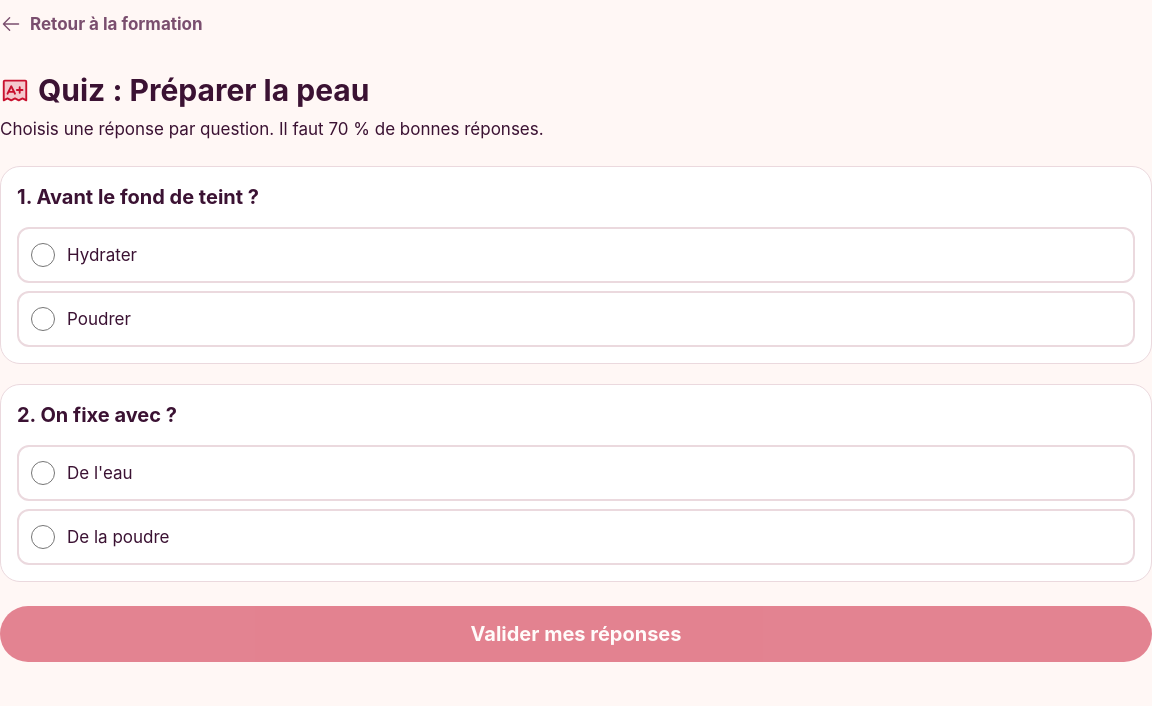
QuizScreen › sends one answer per question and shows the score
expect the element "1. Avant le fond de teint ? Hydrater Poudrer" is shown: met, box [0,166,1151,364]
expect the button "Valider mes réponses" is disabled: met, box [0,606,1151,662]
Click the radio button labelled "Hydrater" at (43, 255), box [31,243,55,267]
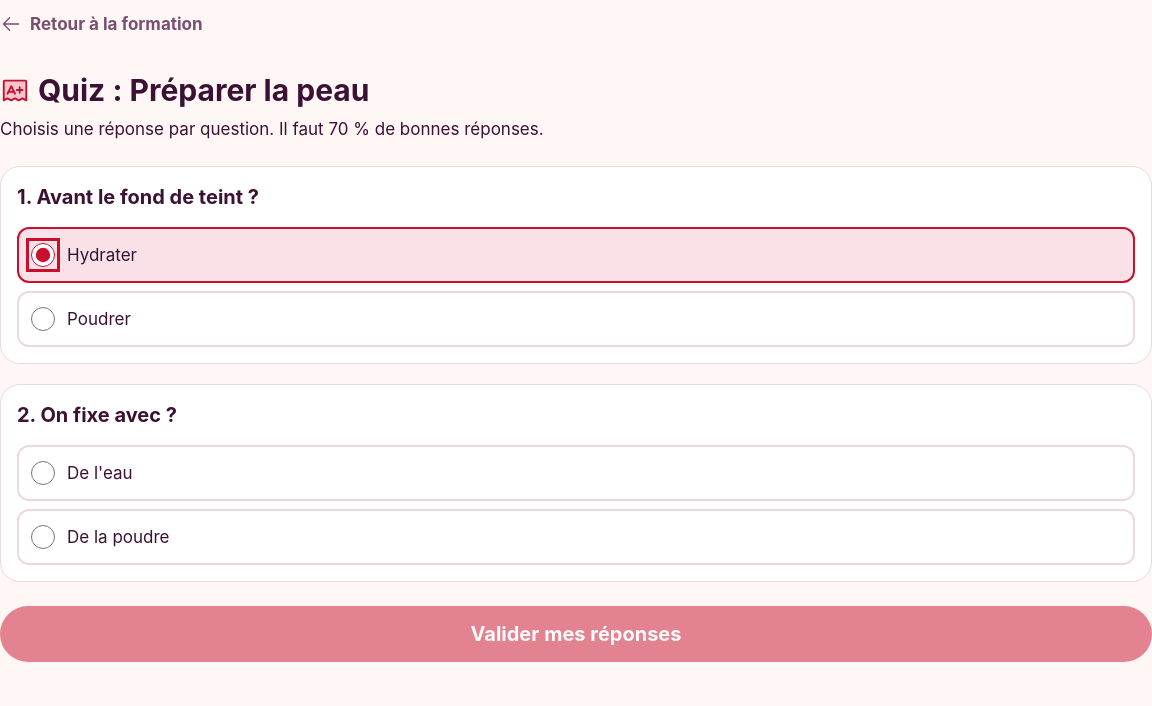
Click the radio button labelled "De la poudre" at (43, 537), box [31,525,55,549]
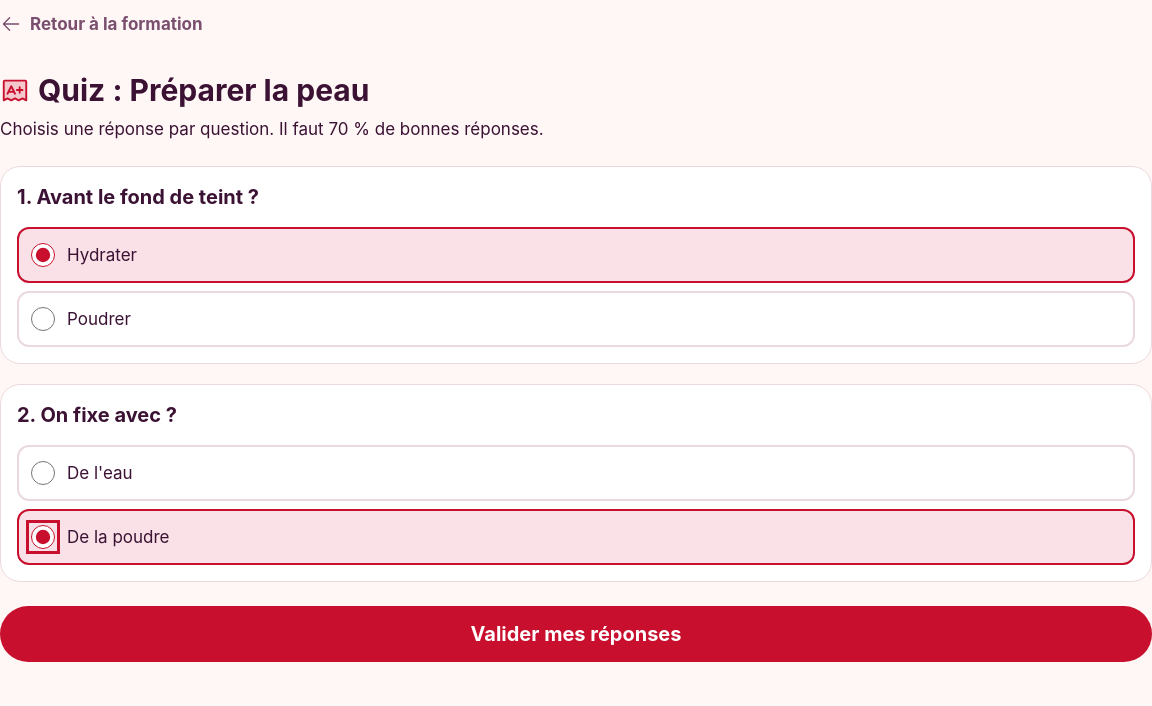
Click the button "Valider mes réponses" at (576, 634), box [0,606,1151,662]
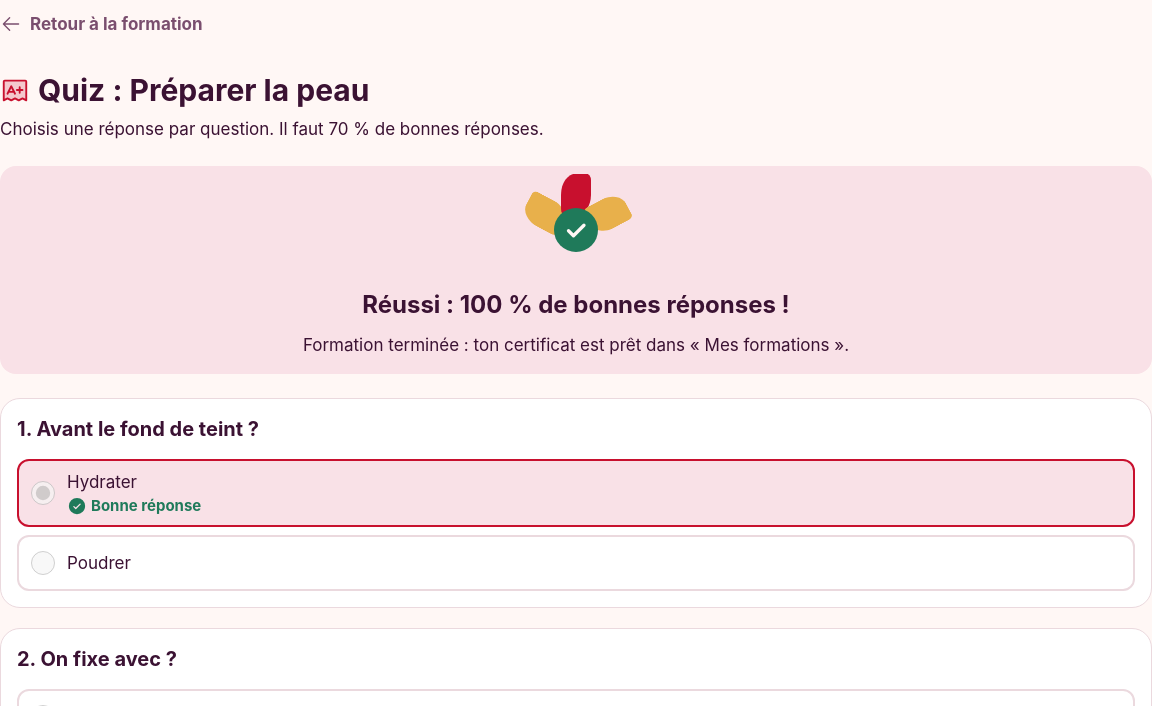
expect the text "Réussi : 100 % de bonnes réponses !" is shown: met, box [362,290,790,320]
expect the text "ton certificat est prêt" is shown: met, box [303,335,849,355]
